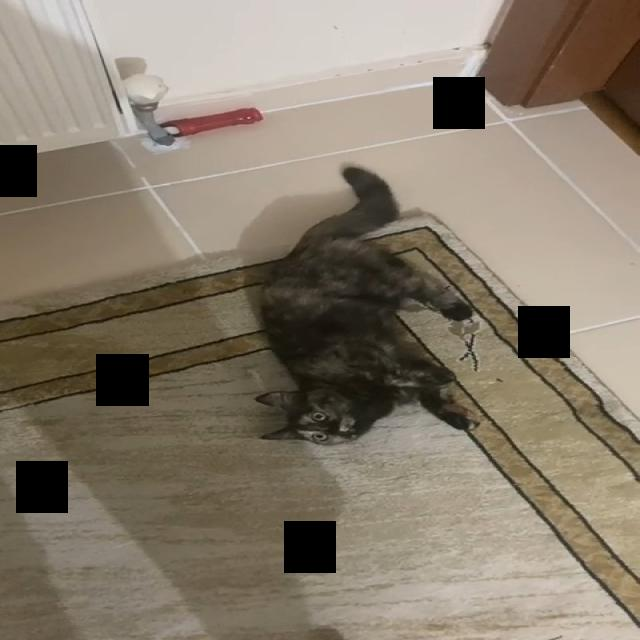authorized: (249, 163, 480, 445)
